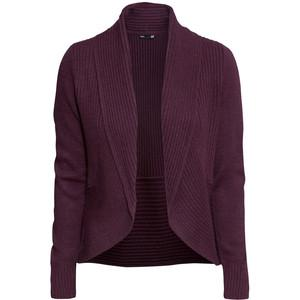S_cardigan sweater: (50, 2, 244, 300)
